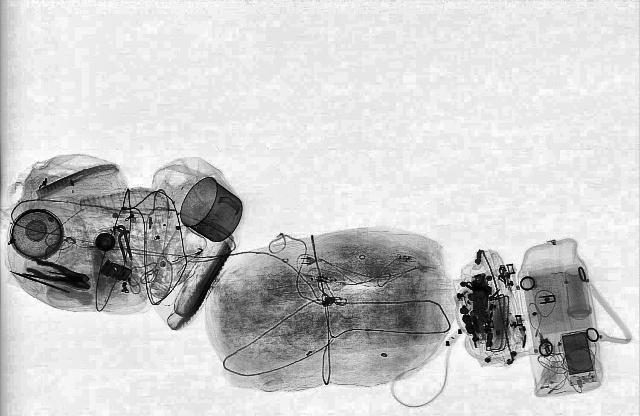Pliers: (22, 256, 100, 294)
